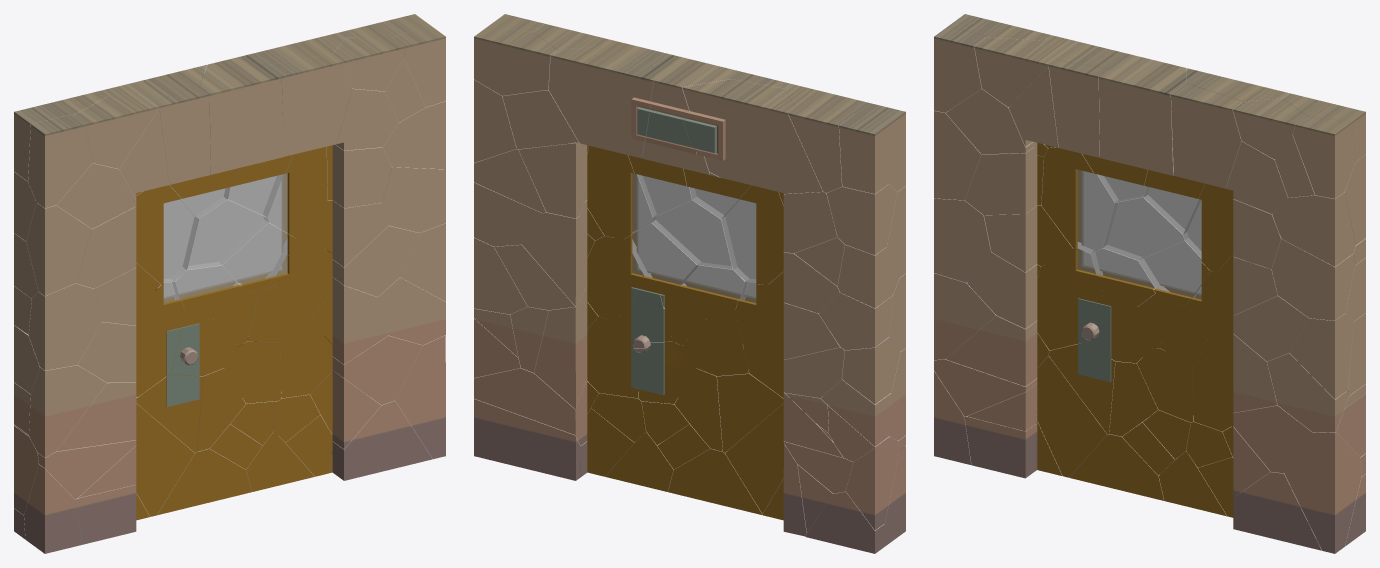
The model's file is Wall_Door02_frac.fbx.
The picture shows the model from 3 angles, left to right: view 1: azimuth 30°, elevation 25°; view 2: azimuth 150°, elevation 25°; view 3: azimuth 330°, elevation 25°; orthographic projection.
Visible parts, largest first — view 1: Wall_cell.072, Wall_cell.055, Wall_cell.046, Door01_cell.041, Wall_cell.066, Wall_cell.043, Wall_cell.051, Wall_cell.052, Wall_cell.049, Wall_cell.065, Door01_cell.056, Door01_cell.037 (+61 smaller); view 2: Wall_cell.015, Wall_cell.038, Wall_cell.011, Wall_cell.072, Door01_cell.041, Wall_cell.014, Door01_cell.037, Door01_cell.043, Wall_cell.009, Wall_cell.002, Wall_cell.073, Wall_cell.010 (+63 smaller); view 3: Wall_cell.072, Wall_cell.065, Wall_cell.055, Door01_cell.041, Door01_cell.056, Wall_cell.060, Door01_cell.043, Wall_cell.062, Wall_cell.052, Wall_cell.066, Wall_cell.076, Wall_cell.047 (+58 smaller).
Part boxes in pixels (left/top/right/bottom): Wall_cell.072: left=199, top=58, right=283, bottom=174; Wall_cell.055: left=266, top=54, right=351, bottom=156; Wall_cell.046: left=28, top=283, right=101, bottom=370; Door01_cell.041: left=136, top=185, right=198, bottom=284; Wall_cell.066: left=332, top=396, right=432, bottom=480; Wall_cell.043: left=29, top=365, right=106, bottom=457; Wall_cell.051: left=28, top=115, right=92, bottom=208; Wall_cell.052: left=153, top=87, right=210, bottom=184; Wall_cell.049: left=26, top=202, right=91, bottom=295; Wall_cell.065: left=395, top=335, right=445, bottom=459; Door01_cell.056: left=136, top=404, right=194, bottom=516; Door01_cell.037: left=267, top=146, right=327, bottom=239; Wall_cell.015: left=548, top=46, right=653, bottom=158; Wall_cell.038: left=682, top=79, right=795, bottom=181; Wall_cell.011: left=474, top=399, right=580, bottom=480; Wall_cell.072: left=642, top=54, right=740, bottom=174; Door01_cell.041: left=721, top=185, right=783, bottom=284; Wall_cell.014: left=474, top=26, right=557, bottom=95; Door01_cell.037: left=587, top=145, right=653, bottom=239; Door01_cell.043: left=735, top=282, right=783, bottom=397; Wall_cell.009: left=534, top=306, right=587, bottom=408; Wall_cell.002: left=522, top=212, right=591, bottom=306; Wall_cell.073: left=518, top=142, right=587, bottom=218; Wall_cell.010: left=474, top=368, right=574, bottom=434; Wall_cell.072: left=1099, top=61, right=1186, bottom=175; Wall_cell.065: left=1284, top=432, right=1361, bottom=553; Wall_cell.055: left=1171, top=83, right=1242, bottom=188; Door01_cell.041: left=1041, top=147, right=1114, bottom=253; Door01_cell.056: left=1037, top=355, right=1107, bottom=477; Wall_cell.060: left=1272, top=239, right=1355, bottom=320; Door01_cell.043: left=1037, top=248, right=1101, bottom=350; Wall_cell.062: left=1272, top=192, right=1355, bottom=266; Wall_cell.052: left=1048, top=60, right=1108, bottom=157; Wall_cell.066: left=1233, top=471, right=1321, bottom=550; Wall_cell.076: left=946, top=315, right=1037, bottom=386; Wall_cell.047: left=964, top=146, right=1037, bottom=215.
Bounding box in the file's own units: 300 × 300 × 44.93.
